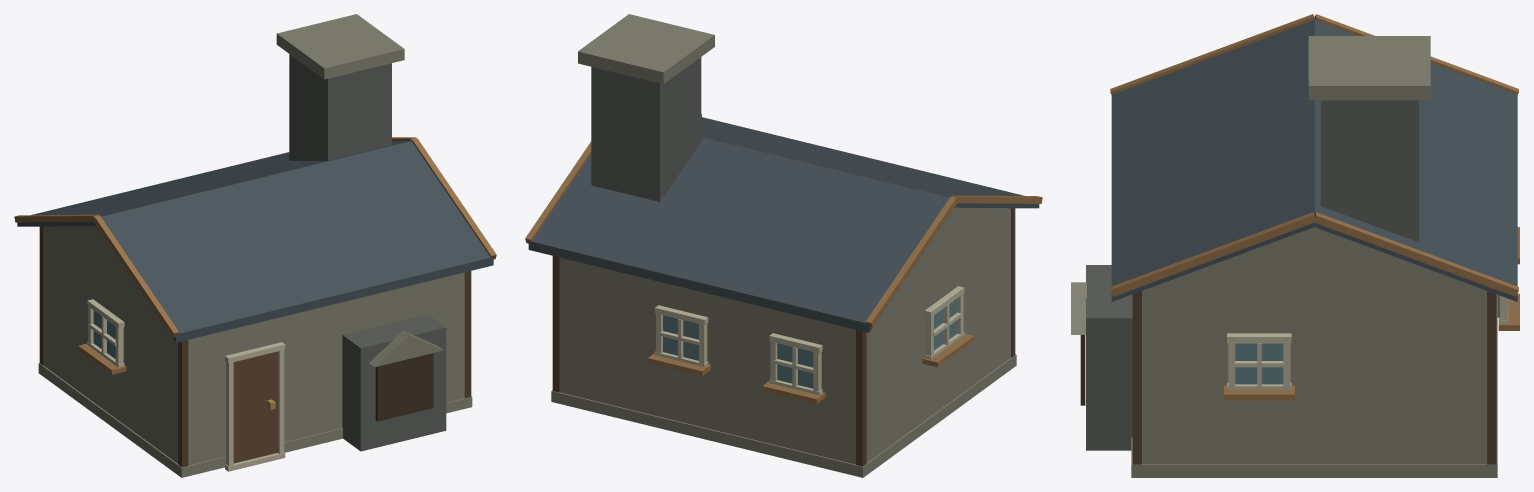
File: Building_Settlement_StoneForge_001.glb
3 views of the same model, side by side, from view 1: azimuth 30°, elevation 25°; view 2: azimuth 150°, elevation 25°; view 3: azimuth 270°, elevation 25° (orthographic). The views are drawn at different scales.
Parts seen in each view (by area): view 1: Building_Settlement_StoneForge_001; view 2: Building_Settlement_StoneForge_001; view 3: Building_Settlement_StoneForge_001.
Part boxes in pixels (x1,y1,x2,y2): Building_Settlement_StoneForge_001: (14,14,496,477); Building_Settlement_StoneForge_001: (525,14,1042,477); Building_Settlement_StoneForge_001: (1071,14,1519,477).
Bounding box in the file's own units: 6.05 × 5.51 × 5.69.
